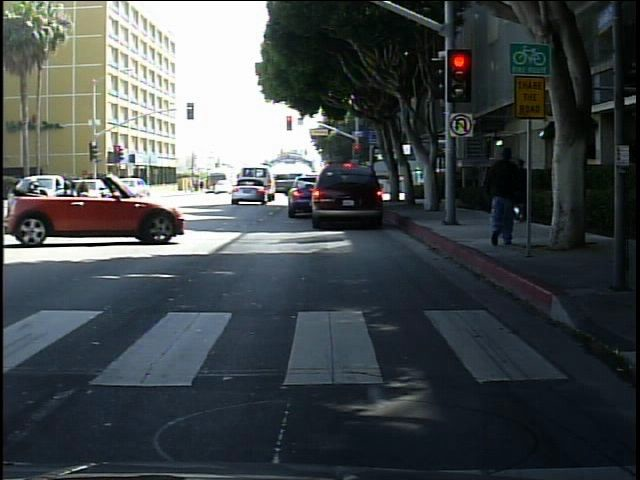person: (477, 132, 529, 251), (509, 148, 534, 231)
